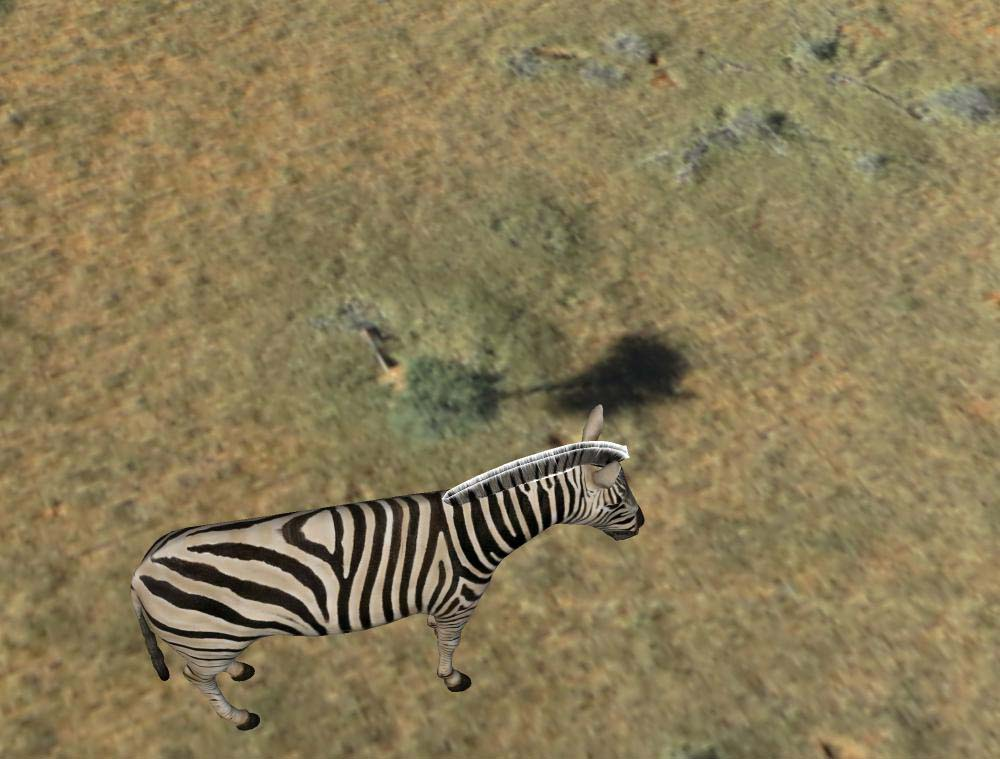zebra: (126, 407, 648, 731)
